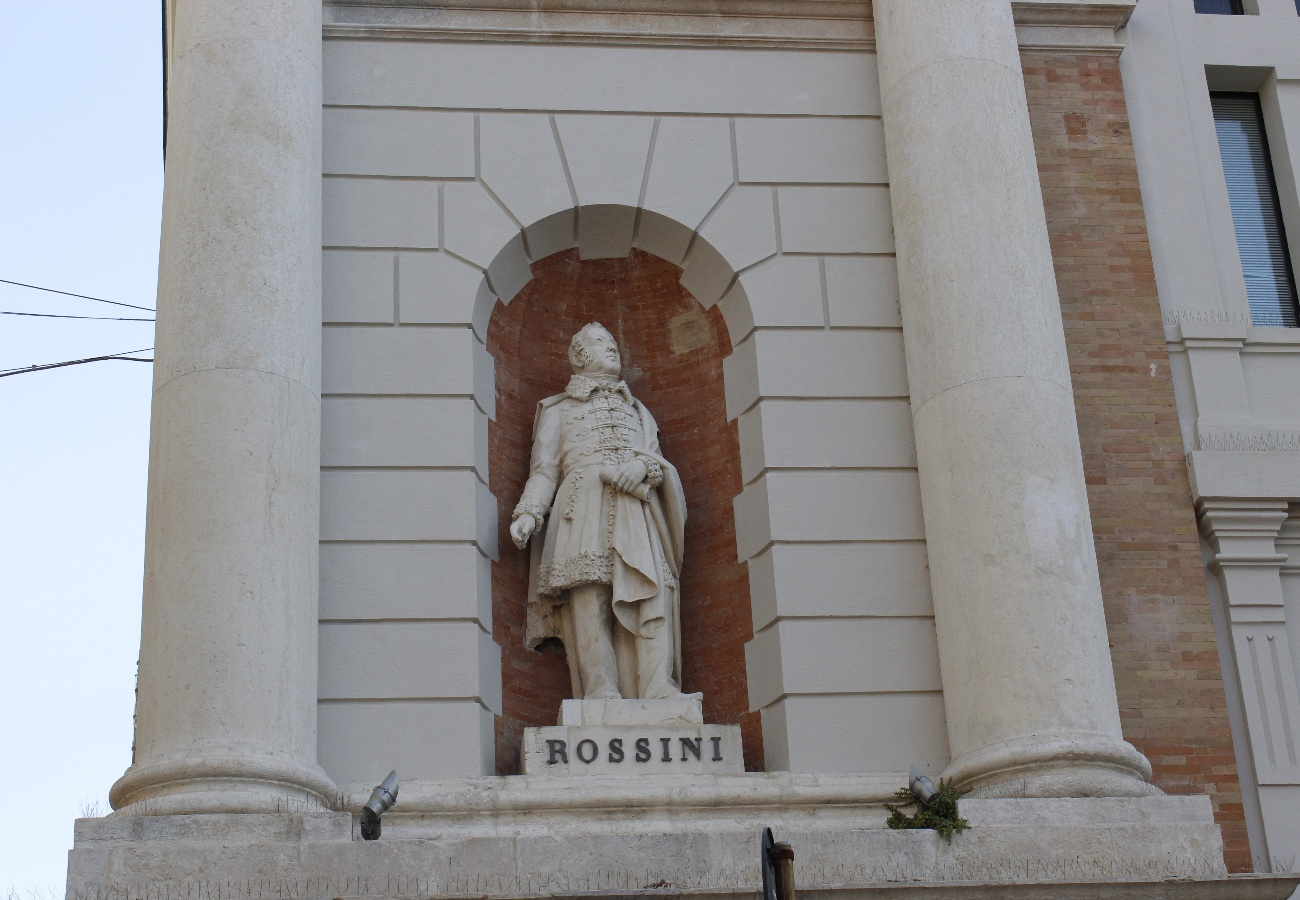Gioachino Rossini: (465, 233, 784, 783)
